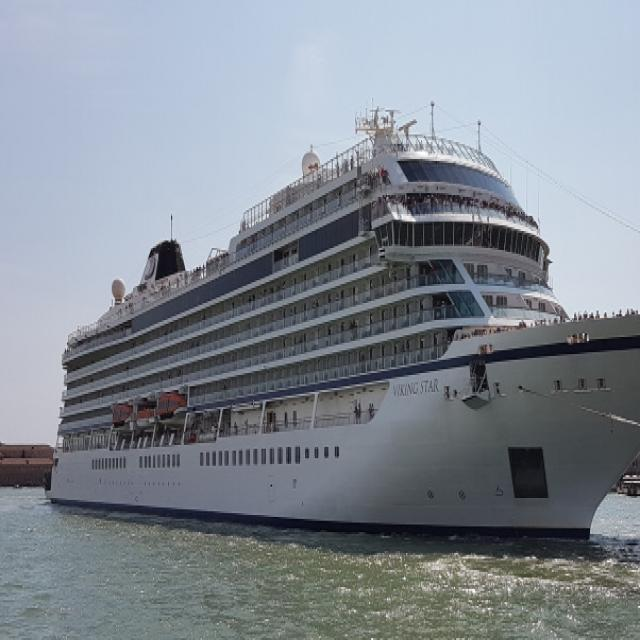cruises: (42, 86, 640, 569)
